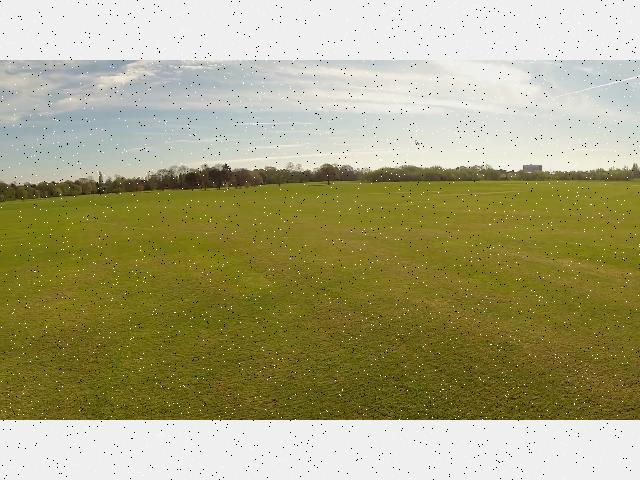Anti-Drone: (410, 137, 424, 148)
